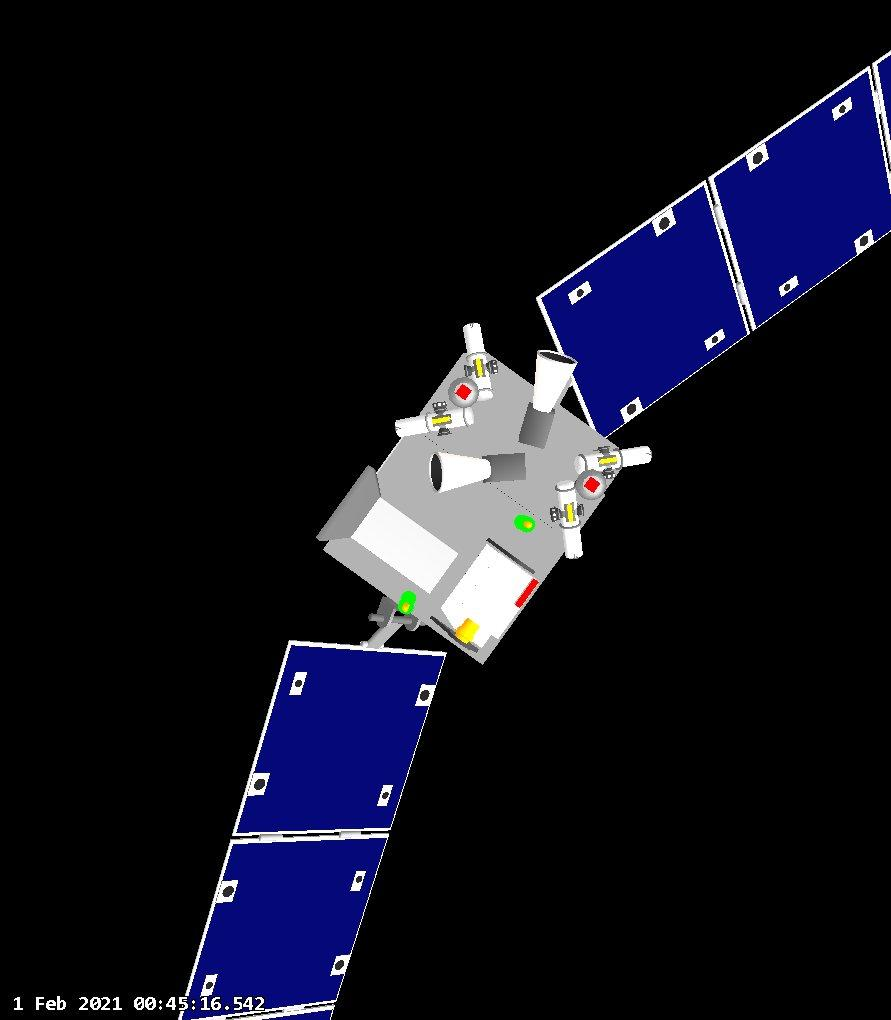body: (314, 347, 624, 668)
solar: (535, 46, 891, 441), (177, 635, 454, 1020)
thruster: (532, 348, 579, 413), (429, 450, 493, 494), (460, 321, 491, 366), (616, 441, 657, 475), (561, 526, 586, 566), (392, 416, 430, 438)
